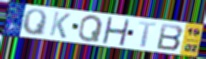B: (156, 23, 185, 52)
H: (101, 16, 132, 47)
K: (48, 10, 72, 40)
Q: (21, 9, 49, 38), (76, 14, 104, 43)
T: (137, 20, 158, 49)
